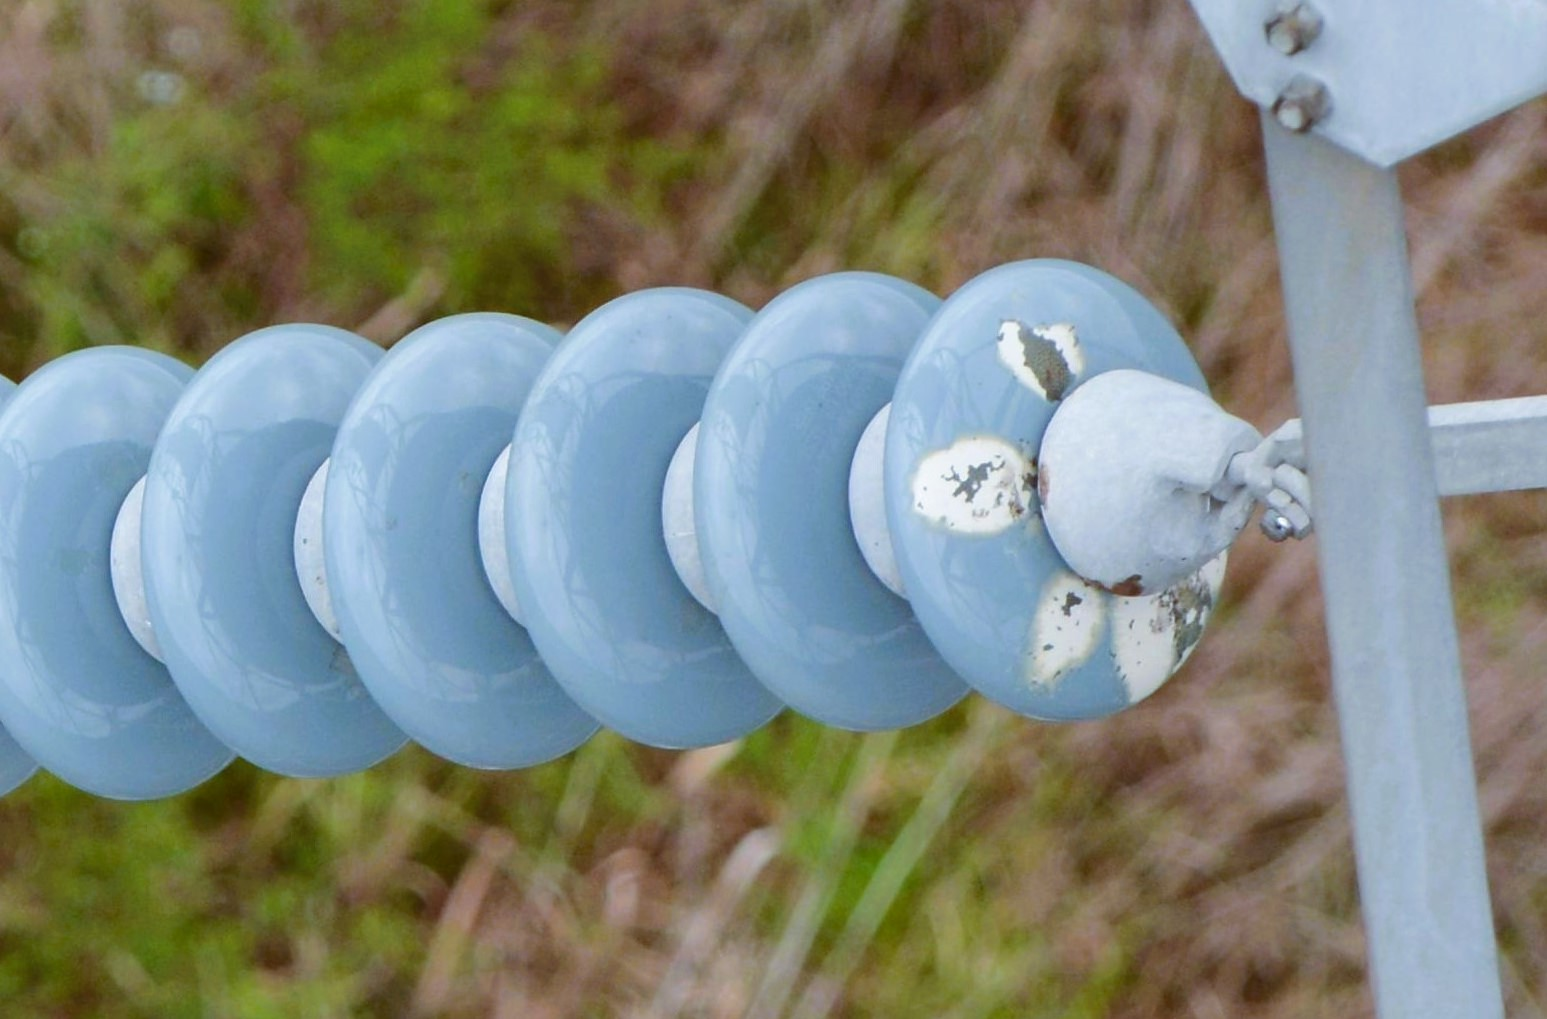Insulator flashover: (874, 252, 1244, 724)
